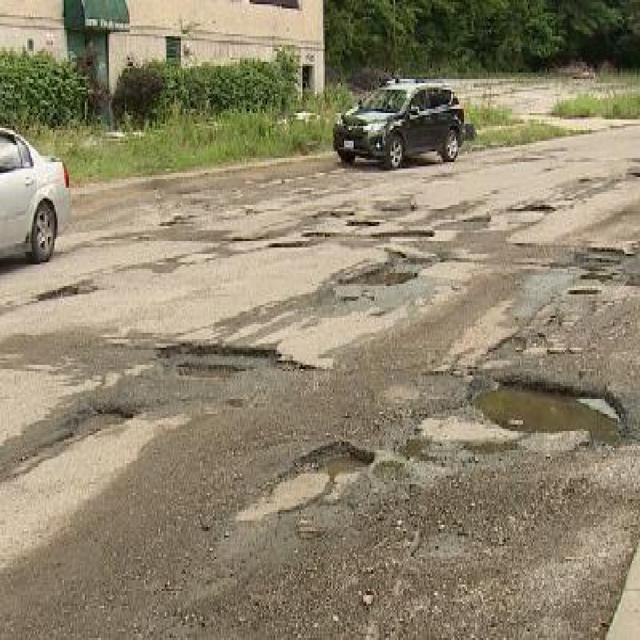Pothole: (468, 370, 636, 451), (251, 436, 382, 517), (157, 336, 320, 383), (67, 402, 141, 439), (339, 263, 424, 289)
